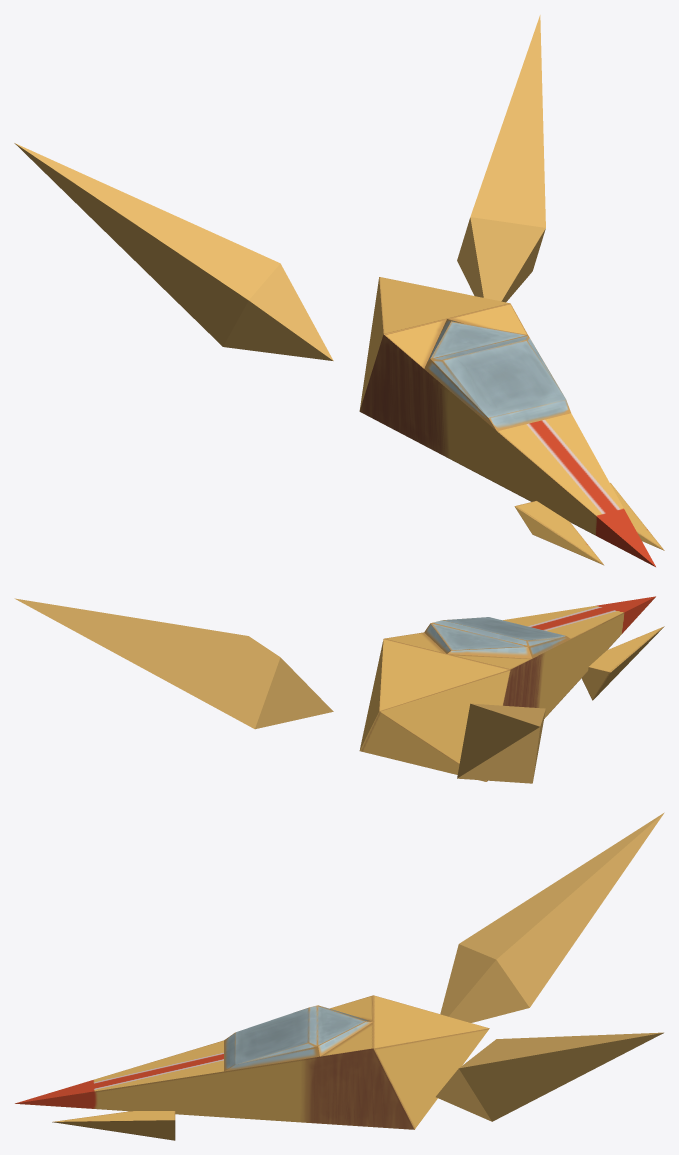
Rendered from StarRider.fbx.
3 renders of one model, top to bottom at view 1: azimuth 30°, elevation 25°; view 2: azimuth 150°, elevation 25°; view 3: azimuth 270°, elevation 25°, orthographic. The views are drawn at different scales.
Visible parts, largest first — view 1: Ship_Body.001; view 2: Ship_Body.001; view 3: Ship_Body.001.
Boxes of the visible parts, x1,y1,x2,y2 form: Ship_Body.001: (14,15,664,566); Ship_Body.001: (14,596,664,783); Ship_Body.001: (15,812,664,1140).
Bounding box in the file's own units: 424 × 185 × 529.
